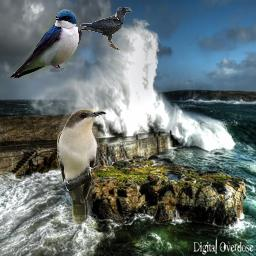Crow: (80, 7, 132, 50)
Cuckoo: (57, 109, 107, 226)
Swallow: (9, 9, 82, 79)
